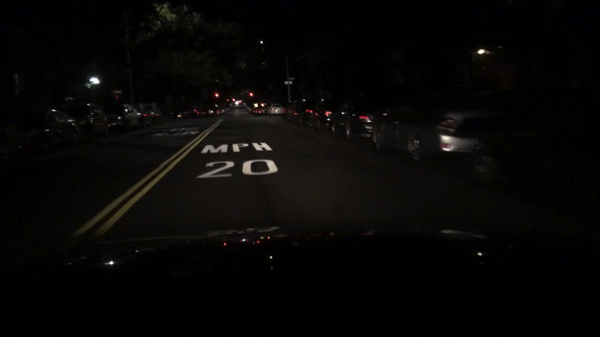car: (471, 99, 598, 184), (390, 96, 502, 161), (0, 106, 80, 157), (357, 103, 396, 140), (64, 104, 110, 131), (328, 103, 359, 139), (312, 99, 335, 129), (109, 104, 139, 126), (292, 99, 315, 125), (139, 103, 163, 124), (282, 101, 295, 118), (266, 104, 283, 114), (167, 107, 182, 118), (250, 103, 266, 113), (176, 106, 190, 117), (248, 101, 260, 113), (190, 106, 202, 116), (202, 106, 213, 115), (212, 104, 221, 114), (220, 103, 229, 112), (244, 101, 250, 109), (235, 100, 242, 104), (227, 103, 233, 107)
traffic light: (213, 93, 221, 98), (248, 93, 256, 96)
traffic sign: (112, 90, 123, 94), (285, 81, 292, 85), (289, 78, 295, 80)
